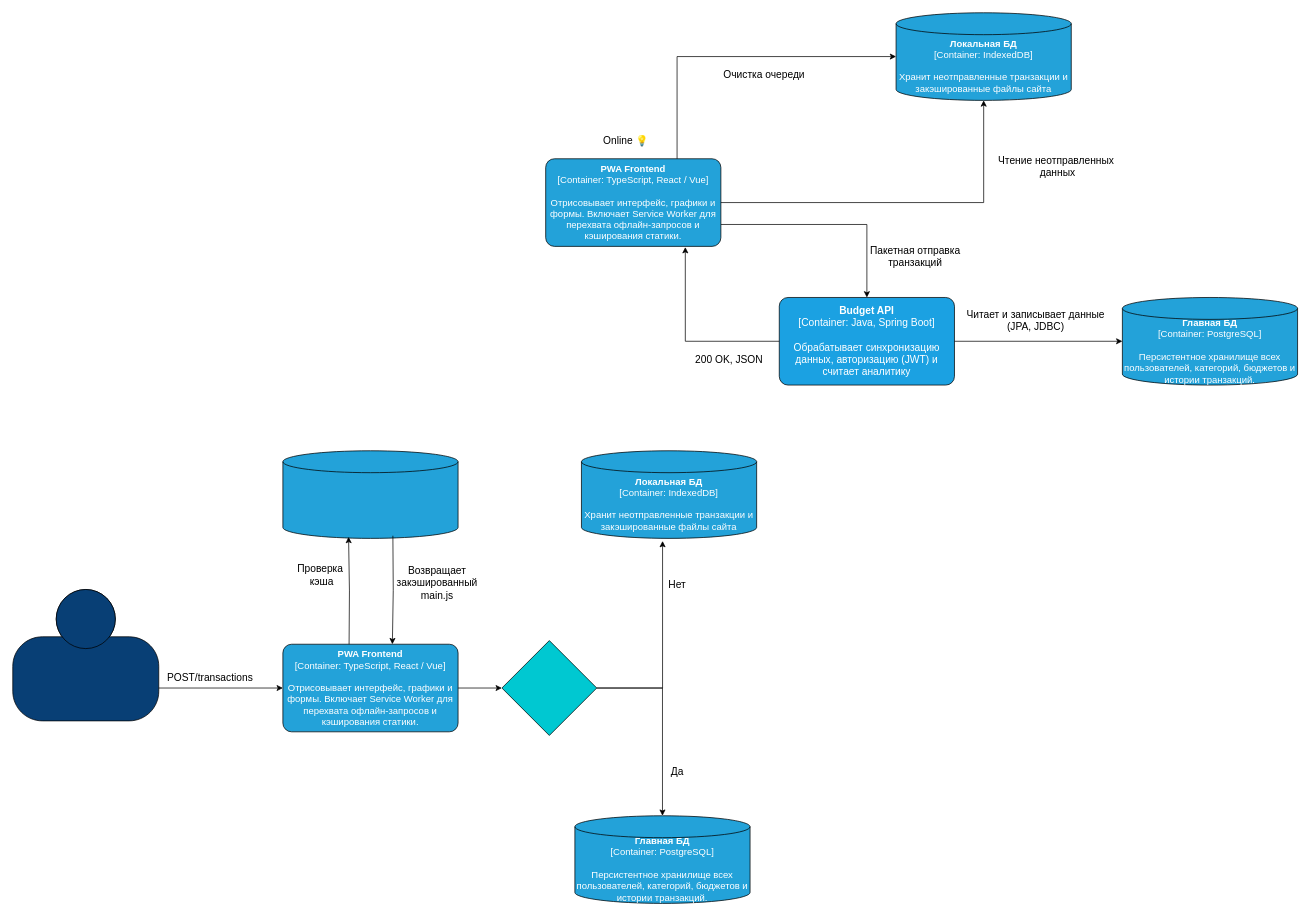
The diagram is 1310 pixels wide and 916 high, and some of its shapes have lost their labels. The centre of each missing label's shape, as x and y in pixels:
Cache Storage [Container: Cache Storage] Хранит статику (HTML/JS): the point at 370,494
Есть сеть?: the point at 549,687
Клиент приложения PWA [Пользователь] Управляет своими доходами и расходами: the point at 85,655
